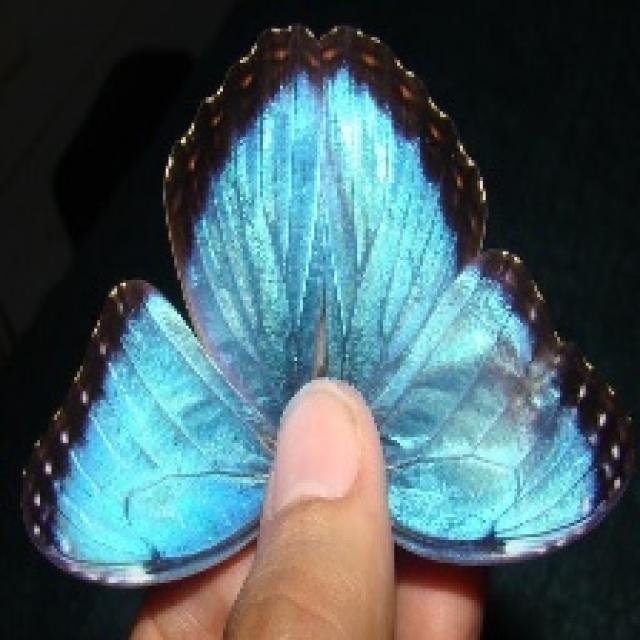butterfly: (17, 20, 637, 589)
